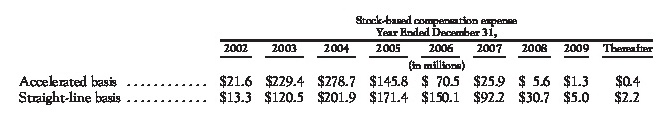table: (0, 0, 667, 123)
